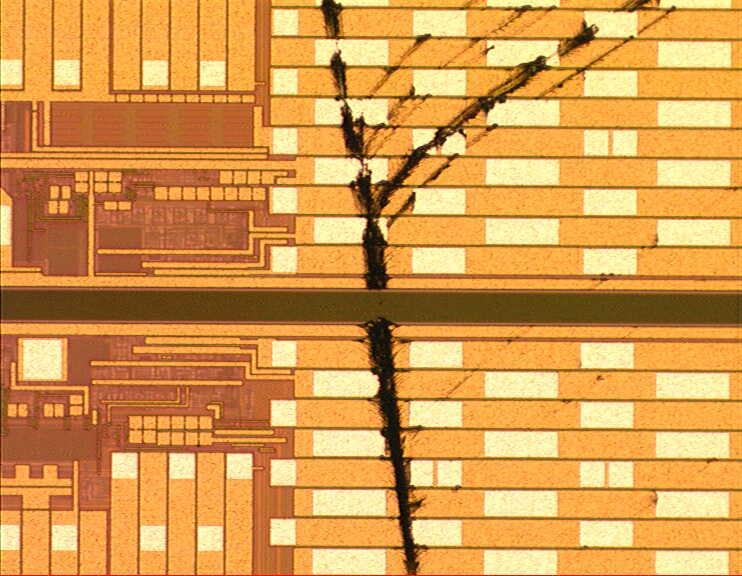SCRATCH: (309, 1, 742, 576)
